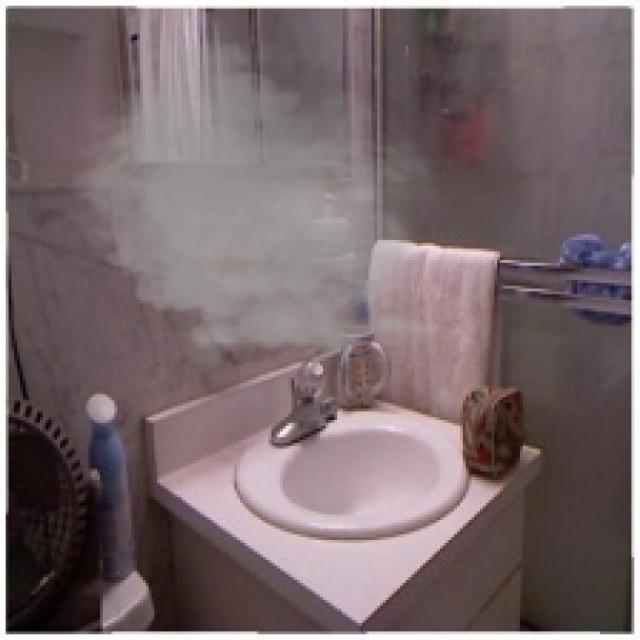Smoke: (59, 28, 452, 374)
